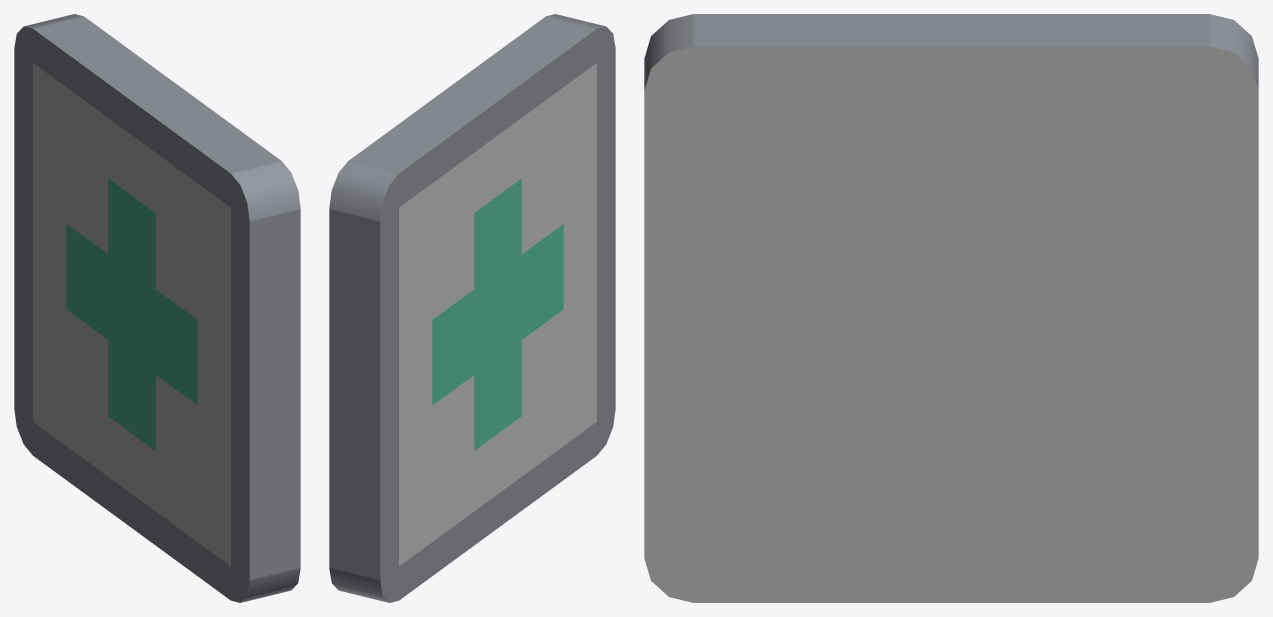
The model's file is sign_hospital.glb.
3 views of the same model, side by side, from view 1: azimuth 30°, elevation 25°; view 2: azimuth 150°, elevation 25°; view 3: azimuth 270°, elevation 25° (orthographic). The views are drawn at different scales.
Visible parts, largest first — view 1: sign_hospital, sign_hospital_5ad50d, sign_hospital_b0553a; view 2: sign_hospital, sign_hospital_5ad50d, sign_hospital_b0553a; view 3: sign_hospital_5ad50d, sign_hospital.
Part boxes in pixels (x1,y1,x2,y2): sign_hospital: [14, 14, 300, 602]; sign_hospital_5ad50d: [33, 63, 230, 566]; sign_hospital_b0553a: [66, 178, 197, 450]; sign_hospital: [329, 14, 615, 602]; sign_hospital_5ad50d: [399, 63, 596, 566]; sign_hospital_b0553a: [432, 178, 563, 450]; sign_hospital_5ad50d: [644, 46, 1258, 602]; sign_hospital: [644, 14, 1258, 90].
Size of the model in its own units: 0.25 by 2 by 2.
